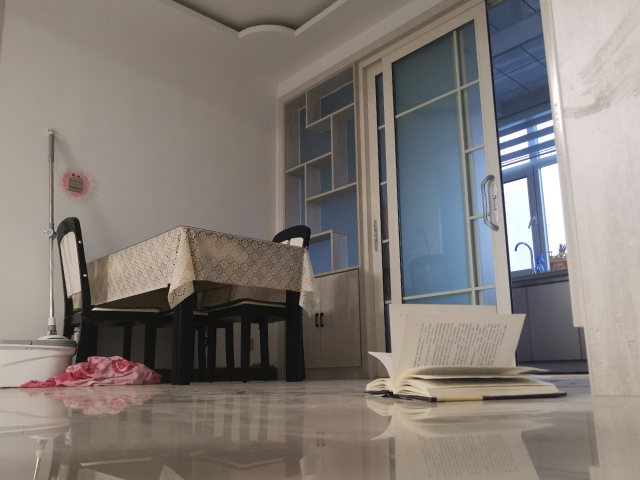book: (360, 301, 569, 404)
cabinet: (507, 268, 590, 377), (310, 265, 379, 381)
stool: (201, 224, 313, 383), (54, 219, 157, 376)
table: (88, 225, 303, 380)
